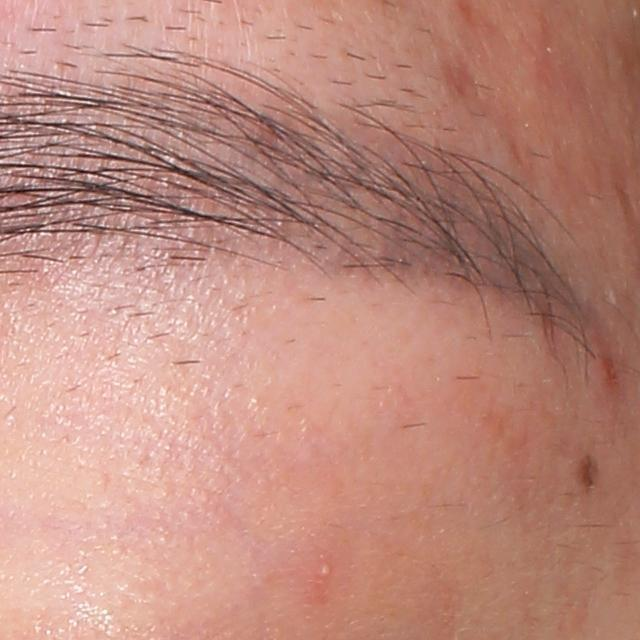nevus: (567, 451, 600, 497)
pustule: (316, 561, 334, 583)
